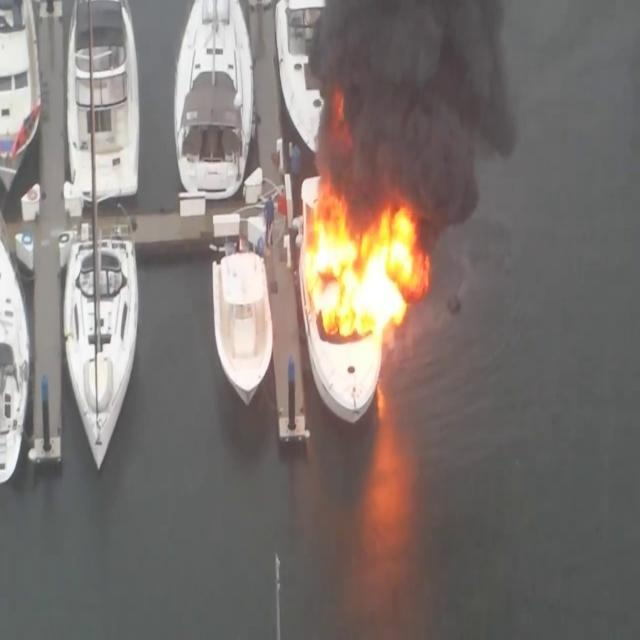Fire: (298, 177, 426, 356)
Smoke: (314, 1, 526, 211)
